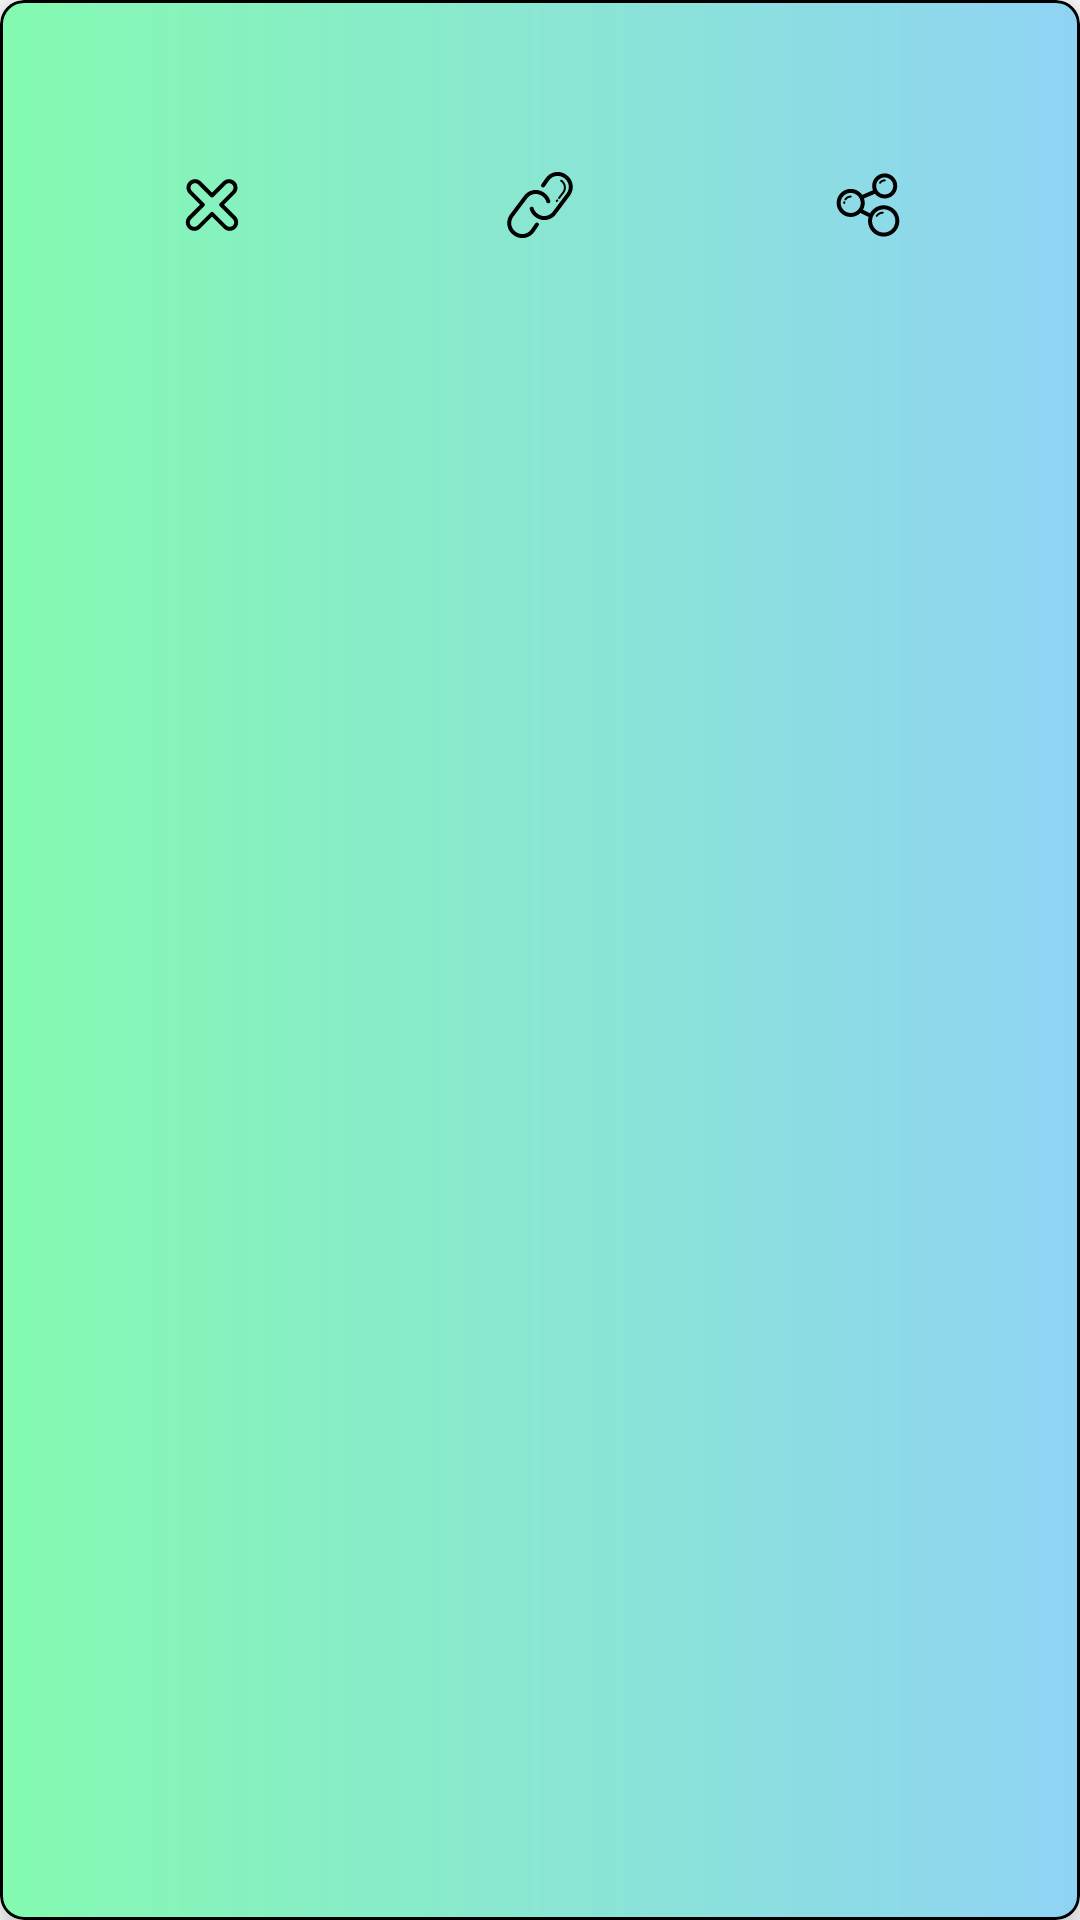

Named icons in this screenshot (1080px x 1920px) and their bounding boxes, (x1, y1, x2, y2):
delete: (185, 179, 239, 231)
share: (836, 173, 900, 237)
